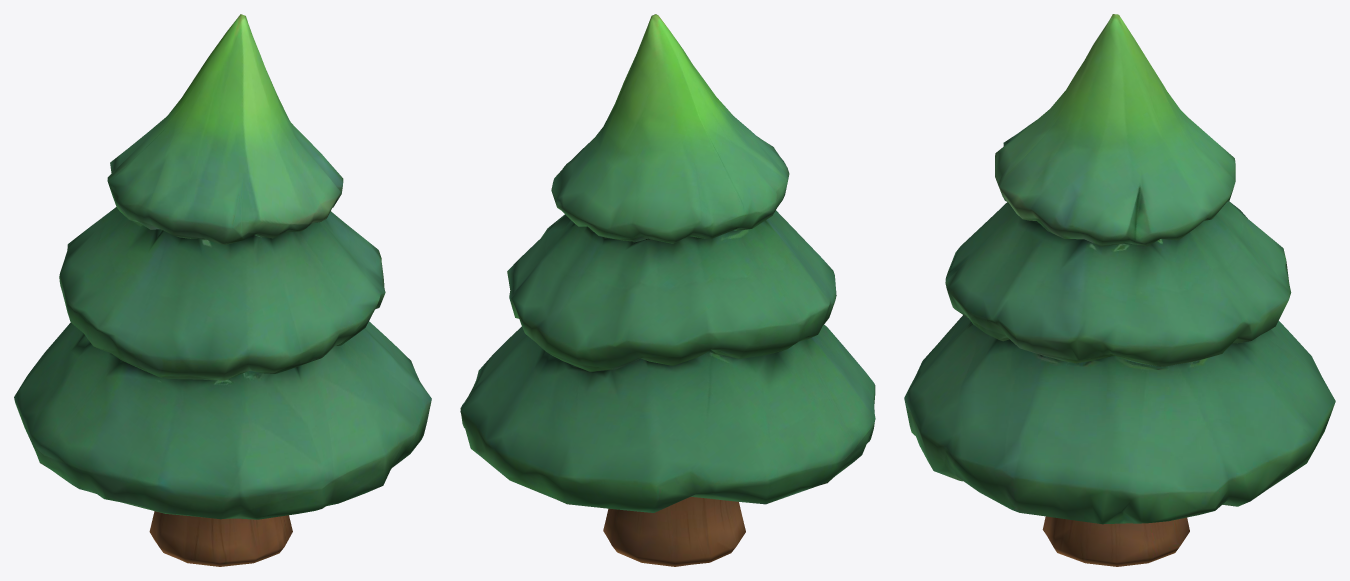
The model's file is Pine_Polygon_0405084717_texture.fbx.
3 renders of one model, left to right at view 1: azimuth 30°, elevation 25°; view 2: azimuth 150°, elevation 25°; view 3: azimuth 270°, elevation 25°, orthographic. The views are drawn at different scales.
Visible parts, largest first — view 1: Mesh1; view 2: Mesh1; view 3: Mesh1.
Part boxes in pixels (x1,y1,x2,y2): Mesh1: [14, 14, 431, 566]; Mesh1: [460, 14, 875, 566]; Mesh1: [904, 14, 1335, 566].
Bounding box in the file's own units: 146 × 200 × 147.
Materials: 1 (1 with a texture image).
